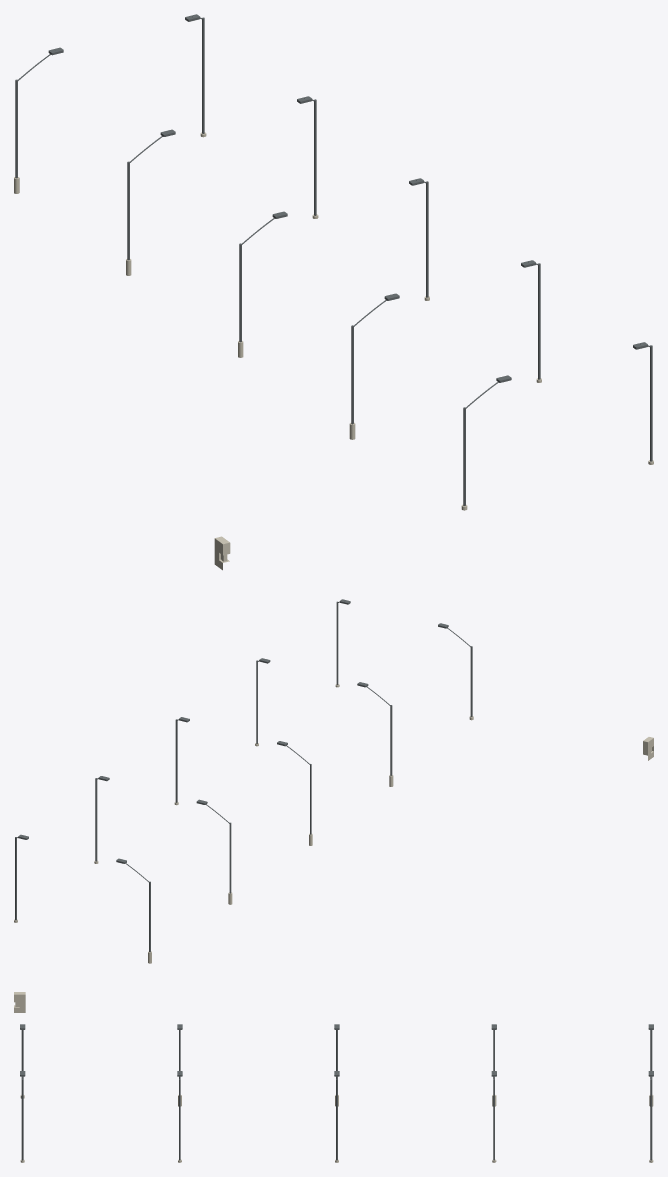
3 renders of one model, top to bottom at view 1: azimuth 30°, elevation 25°; view 2: azimuth 150°, elevation 25°; view 3: azimuth 270°, elevation 25°, orthographic. The views are drawn at different scales.
Visible parts, largest first — view 1: buildings_s_-3_-1_Dark_Metal, buildings_s_-3_-1_Warm_Limestone; view 2: buildings_s_-3_-1_Dark_Metal, buildings_s_-3_-1_Warm_Limestone; view 3: buildings_s_-3_-1_Dark_Metal, buildings_s_-3_-1_Warm_Limestone.
Part boxes in pixels (box(x1,y1,x2,y2)): buildings_s_-3_-1_Dark_Metal: box(15, 14, 652, 505); buildings_s_-3_-1_Warm_Limestone: box(14, 132, 653, 570); buildings_s_-3_-1_Dark_Metal: box(15, 599, 472, 952); buildings_s_-3_-1_Warm_Limestone: box(14, 684, 653, 963); buildings_s_-3_-1_Dark_Metal: box(20, 1024, 653, 1160); buildings_s_-3_-1_Warm_Limestone: box(14, 992, 653, 1162).
Bounding box in the file's own units: 60.84 × 17.75 × 110.
